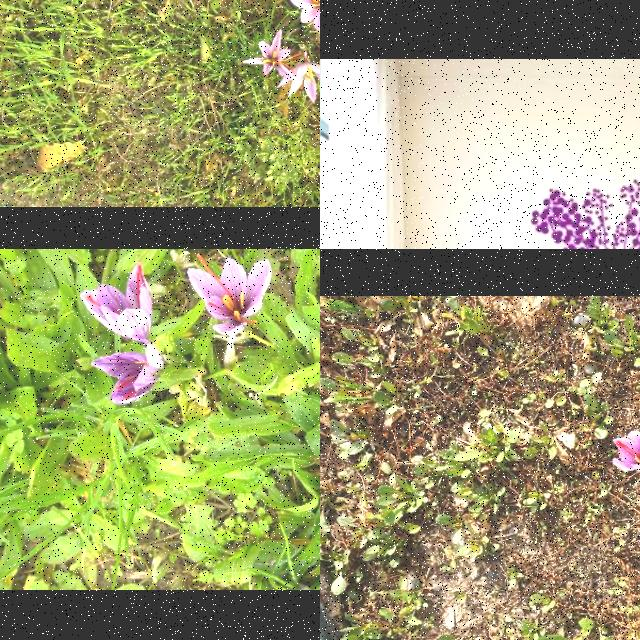flower: (188, 254, 272, 336), (80, 263, 154, 343), (91, 344, 169, 406), (244, 30, 302, 81), (275, 62, 320, 104), (612, 430, 640, 473), (290, 0, 320, 32)
